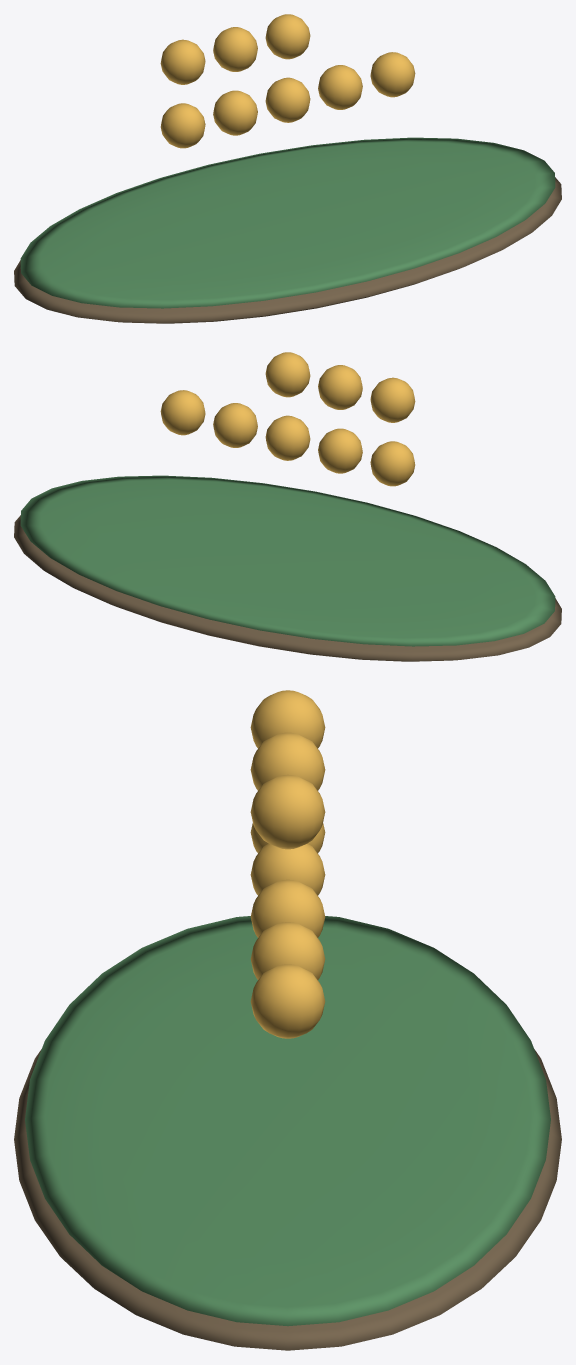
Rendered from eight.glb.
The picture shows the model from 3 angles, top to bottom: view 1: azimuth 30°, elevation 25°; view 2: azimuth 150°, elevation 25°; view 3: azimuth 270°, elevation 25°; orthographic projection. The views are drawn at different scales.
Visible parts, largest first — view 1: eight_surface_01, eight_surface_02, eight_surface_00; view 2: eight_surface_01, eight_surface_02, eight_surface_00; view 3: eight_surface_01, eight_surface_02, eight_surface_00.
Part boxes in pixels (x1,y1,x2,y2): eight_surface_01: (20,137,555,308); eight_surface_02: (160,14,415,148); eight_surface_00: (14,177,561,323); eight_surface_01: (20,475,555,646); eight_surface_02: (160,352,415,486); eight_surface_00: (14,515,561,661); eight_surface_01: (25,916,550,1326); eight_surface_02: (250,690,325,1038); eight_surface_00: (14,1049,561,1350).
Size of the model in its own units: 4.56 by 1.95 by 2.5.
